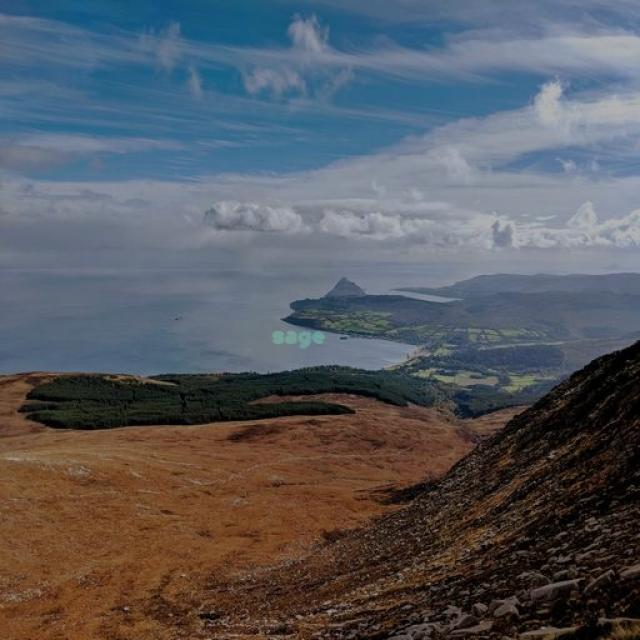watermark: (266, 328, 326, 346)
